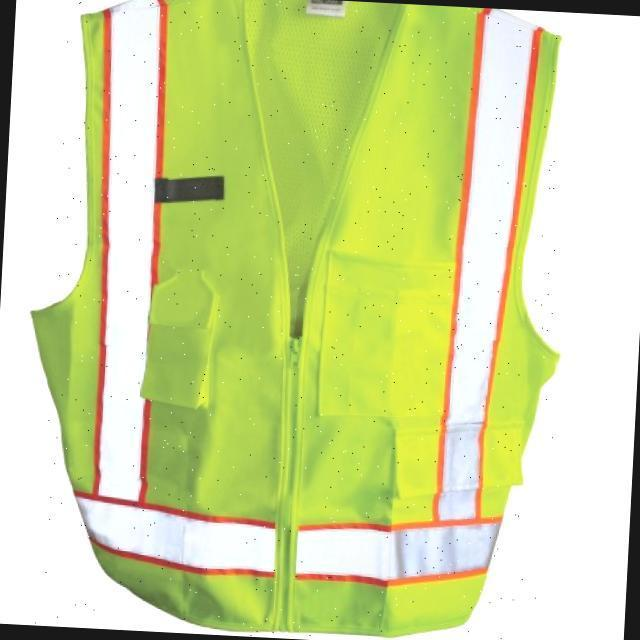vest: (35, 0, 576, 640)
